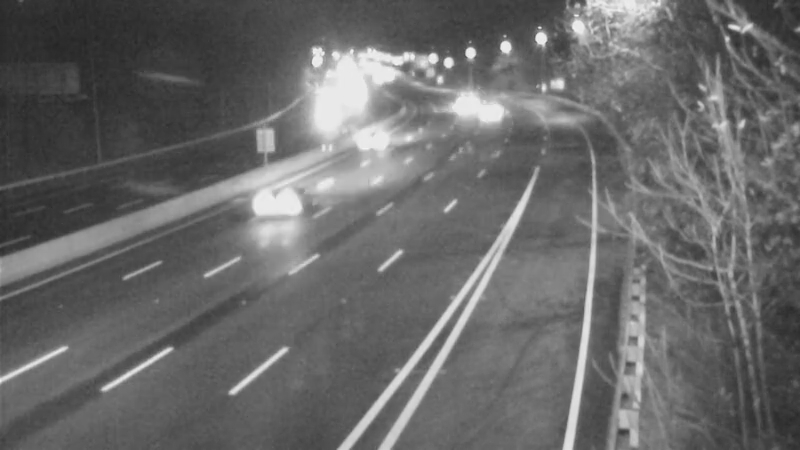vehicle: (241, 161, 321, 241), (440, 75, 490, 125), (462, 90, 512, 140), (348, 110, 398, 160)
